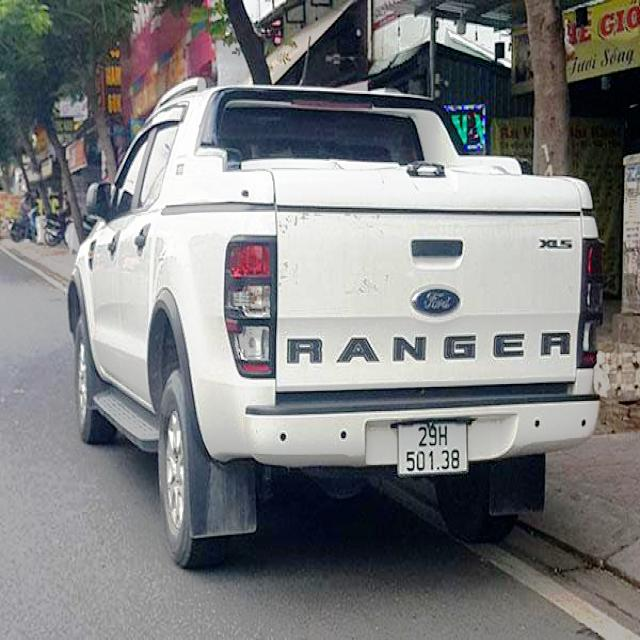license_plate: (400, 417, 471, 475)
